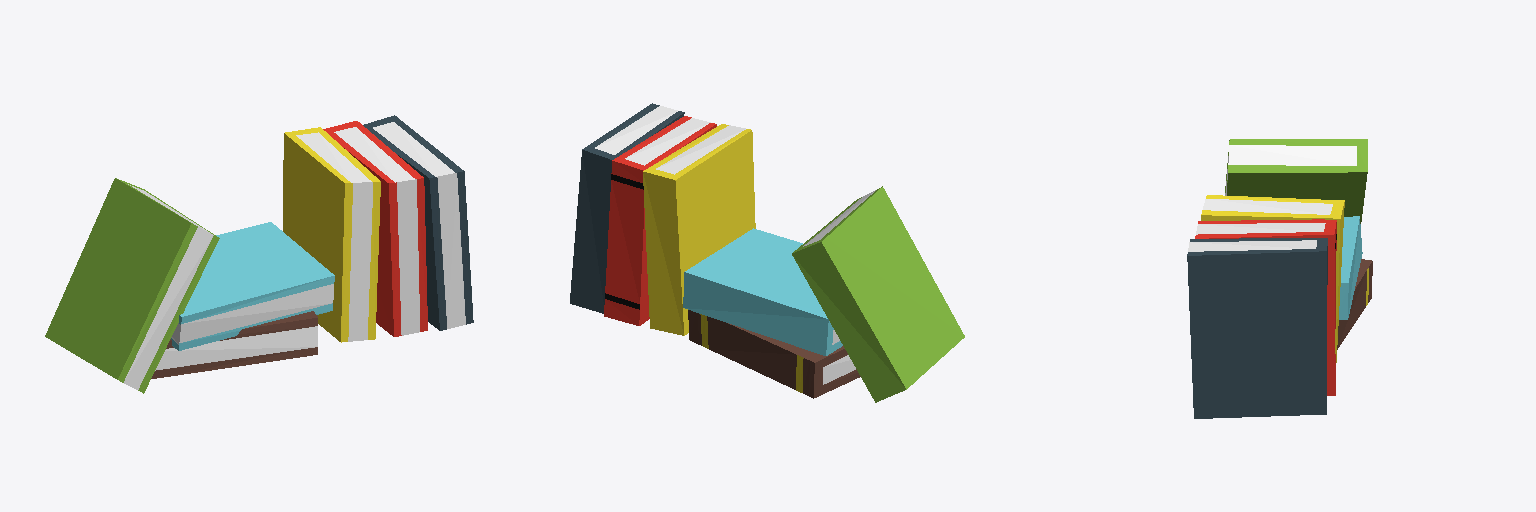
3 views of the same model, side by side, from view 1: azimuth 30°, elevation 25°; view 2: azimuth 150°, elevation 25°; view 3: azimuth 270°, elevation 25° (orthographic).
Visible parts, largest first — view 1: group[number redacted], group[number redacted], group[number redacted], group[number redacted], group[number redacted], group[number redacted]; view 2: group[number redacted], group[number redacted], group[number redacted], group[number redacted], group[number redacted], group[number redacted]; view 3: group[number redacted], group[number redacted], group[number redacted], group[number redacted], group[number redacted], group[number redacted].
Part boxes in pixels (x1,y1,x2,y2): group[number redacted]: (45,178,219,393); group[number redacted]: (283,127,380,342); group[number redacted]: (171,222,334,350); group[number redacted]: (323,121,427,336); group[number redacted]: (363,115,473,330); group[number redacted]: (151,311,317,378); group[number redacted]: (792,186,964,402); group[number redacted]: (643,124,755,335); group[number redacted]: (683,228,842,355); group[number redacted]: (604,116,716,325); group[number redacted]: (570,103,684,313); group[number redacted]: (688,310,860,398); group[number redacted]: (1187,238,1327,418); group[number redacted]: (1225,139,1367,223); group[number redacted]: (1195,219,1336,395); group[number redacted]: (1201,195,1344,362); group[number redacted]: (1339,216,1362,319); group[number redacted]: (1337,259,1372,349).
Bounding box in the file's own units: 0.1141 × 0.054 × 0.0524.